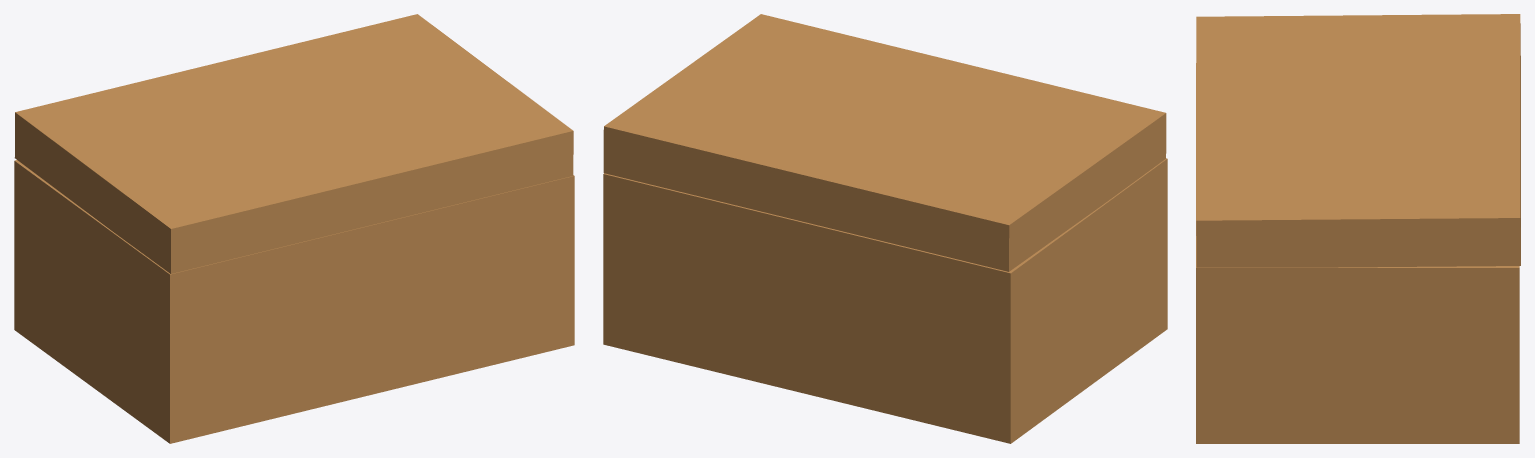
3 views of the same model, side by side, from view 1: azimuth 30°, elevation 25°; view 2: azimuth 150°, elevation 25°; view 3: azimuth 270°, elevation 25° (orthographic). The views are drawn at different scales.
Visible parts, largest first — view 1: Box_Base, Box_Lid; view 2: Box_Base, Box_Lid; view 3: Box_Lid, Box_Base.
Boxes of the visible parts, left/top/right/bottom form: Box_Base: left=14, top=160, right=574, bottom=443; Box_Lid: left=14, top=14, right=573, bottom=273; Box_Base: left=603, top=158, right=1167, bottom=443; Box_Lid: left=603, top=14, right=1166, bottom=271; Box_Lid: left=1196, top=14, right=1520, bottom=267; Box_Base: left=1196, top=63, right=1519, bottom=443.
Bounding box in the file's own units: 300 × 154 × 201.
